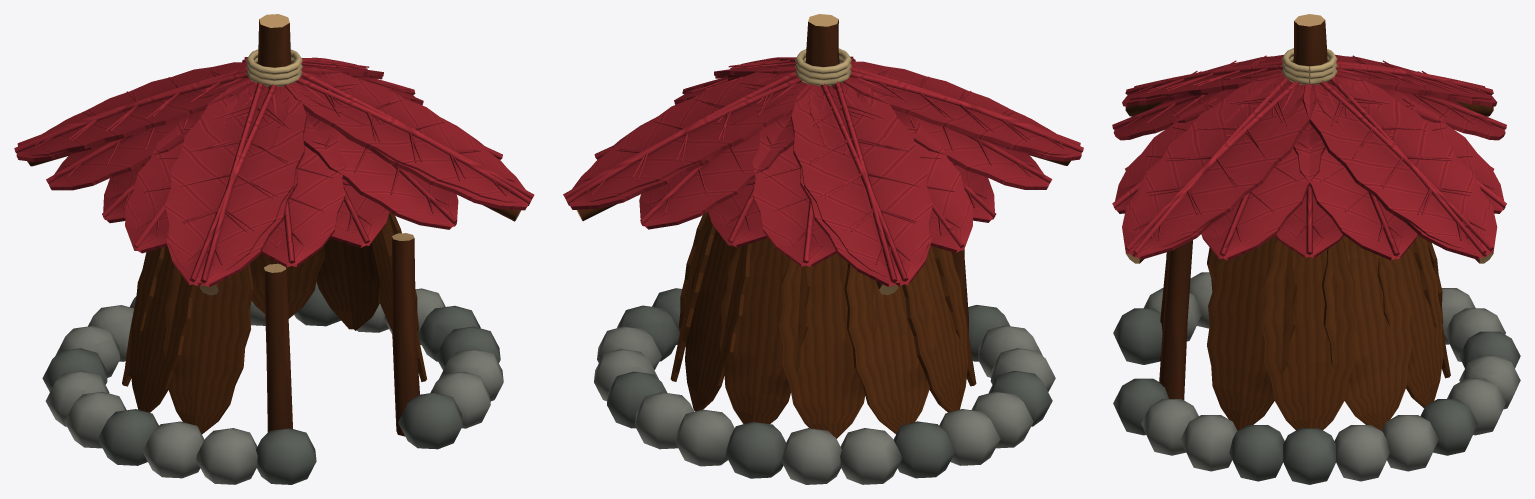
3 renders of one model, left to right at view 1: azimuth 30°, elevation 25°; view 2: azimuth 150°, elevation 25°; view 3: azimuth 270°, elevation 25°, orthographic.
Parts seen in each view (by area): view 1: canopy-house · evaluated preview mesh; view 2: canopy-house · evaluated preview mesh; view 3: canopy-house · evaluated preview mesh.
Part boxes in pixels (<box>): canopy-house · evaluated preview mesh: <box>14,14,534,484</box>; canopy-house · evaluated preview mesh: <box>563,14,1083,484</box>; canopy-house · evaluated preview mesh: <box>1112,14,1520,484</box>.
Bounding box in the file's own units: 3.83 × 3.43 × 3.36.
7 materials, 3 textured.
